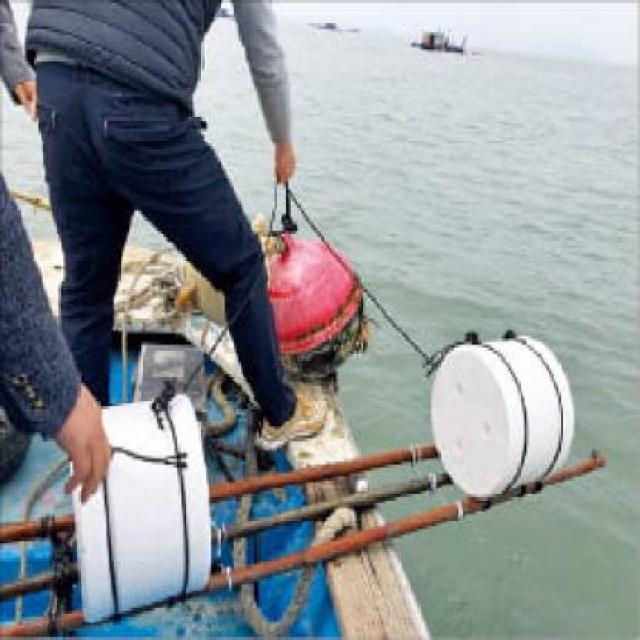a: (50, 390, 230, 616), (417, 311, 591, 513), (240, 197, 383, 388)
